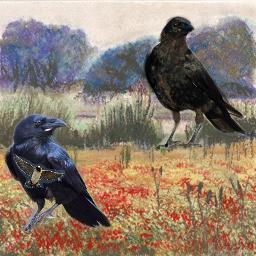Crow: (142, 15, 247, 149), (4, 113, 114, 232)
Swallow: (13, 153, 65, 188)
